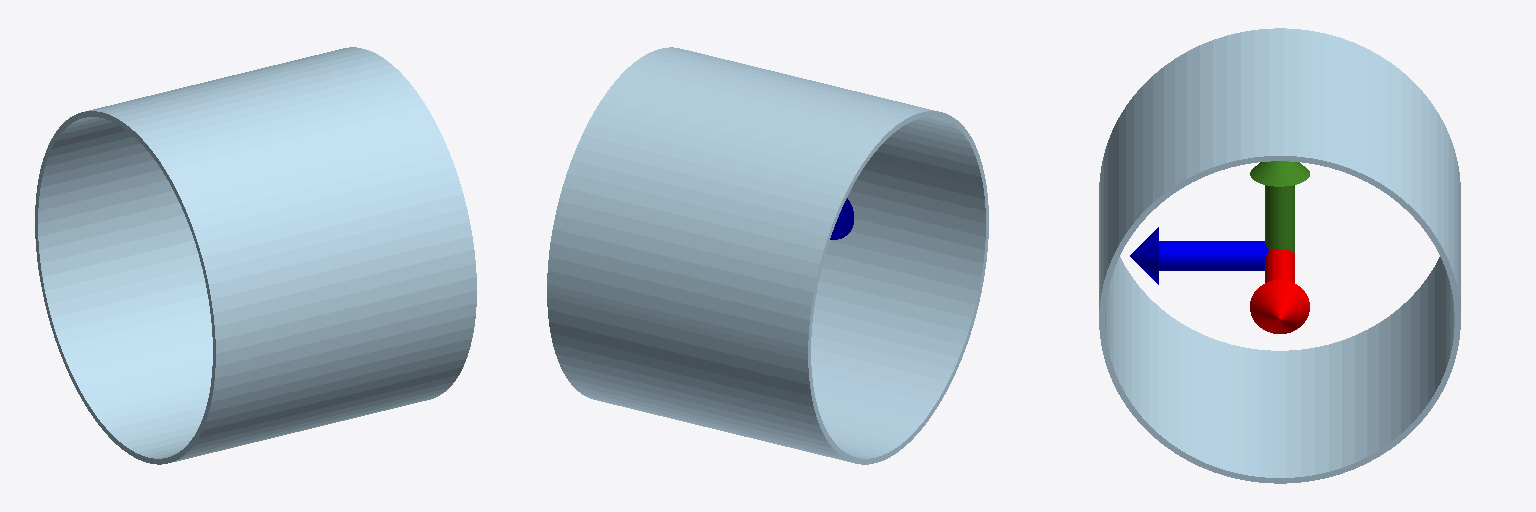
The model's file is cylinder_aligned.obj.
3 renders of one model, left to right at view 1: azimuth 30°, elevation 25°; view 2: azimuth 150°, elevation 25°; view 3: azimuth 270°, elevation 25°, orthographic.
Parts seen in each view (by area): view 1: mesh2, mesh0, mesh3; view 2: mesh2, mesh0, mesh3, mesh14; view 3: mesh2, mesh0, mesh1, mesh13, mesh11, mesh5, mesh7, mesh9, mesh15.
Boxes of the visible parts, x1,y1,x2,y2 form: mesh2: [85, 47, 476, 461]; mesh0: [38, 117, 212, 458]; mesh3: [35, 111, 215, 464]; mesh2: [547, 47, 933, 462]; mesh0: [811, 117, 985, 458]; mesh3: [808, 111, 988, 464]; mesh14: [830, 198, 853, 239]; mesh2: [1099, 28, 1460, 309]; mesh0: [1105, 257, 1454, 477]; mesh1: [1099, 156, 1460, 483]; mesh13: [1159, 241, 1268, 270]; mesh11: [1250, 280, 1309, 333]; mesh5: [1265, 185, 1294, 253]; mesh7: [1250, 161, 1309, 186]; mesh9: [1265, 249, 1294, 282]; mesh15: [1130, 227, 1158, 284].
Size of the model in its own units: 0.5 by 0.5999 by 0.6.